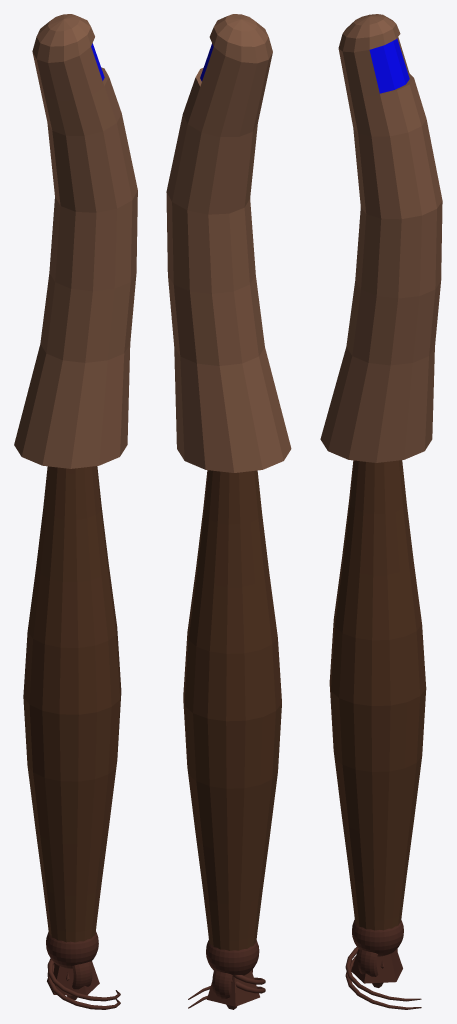
File: Wand 149.glb
The picture shows the model from 3 angles, left to right: view 1: azimuth 30°, elevation 25°; view 2: azimuth 150°, elevation 25°; view 3: azimuth 330°, elevation 25°; orthographic projection. The views are drawn at different scales.
Visible parts, largest first — view 1: GeneratedWand, Pommel_4, Pommel_9, Pommel_2, Pommel_10; view 2: GeneratedWand, Pommel_4, Pommel_9, Pommel_2; view 3: GeneratedWand, Pommel_4, Pommel_9, Pommel_2, Pommel_10.
Part boxes in pixels (left/top/right/bottom): GeneratedWand: left=14, top=14, right=137, bottom=1001; Pommel_4: left=46, top=931, right=98, bottom=968; Pommel_9: left=47, top=961, right=99, bottom=995; Pommel_2: left=72, top=961, right=92, bottom=989; Pommel_10: left=47, top=964, right=120, bottom=1009; GeneratedWand: left=166, top=14, right=291, bottom=999; Pommel_4: left=206, top=940, right=259, bottom=976; Pommel_9: left=207, top=970, right=259, bottom=1006; Pommel_2: left=212, top=969, right=252, bottom=998; GeneratedWand: left=320, top=14, right=442, bottom=1001; Pommel_4: left=352, top=920, right=403, bottom=956; Pommel_9: left=351, top=949, right=402, bottom=983; Pommel_2: left=358, top=948, right=397, bottom=976; Pommel_10: left=345, top=956, right=421, bottom=1009.
Bounding box in the file's own units: 0.0644 × 0.5518 × 0.0572.
